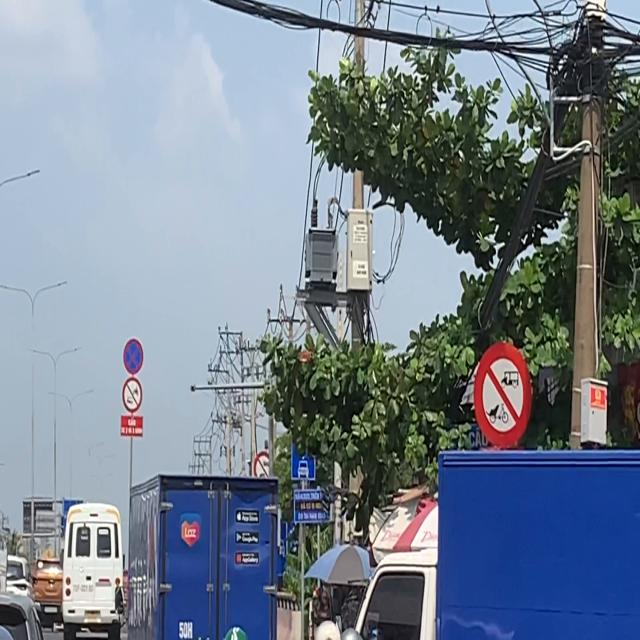Cam con lai: (473, 340, 533, 450), (122, 376, 143, 414)
Cam dung va do: (122, 336, 144, 377)
